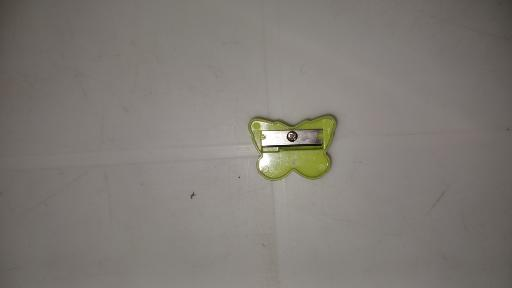Sharpener: (249, 113, 337, 181)
